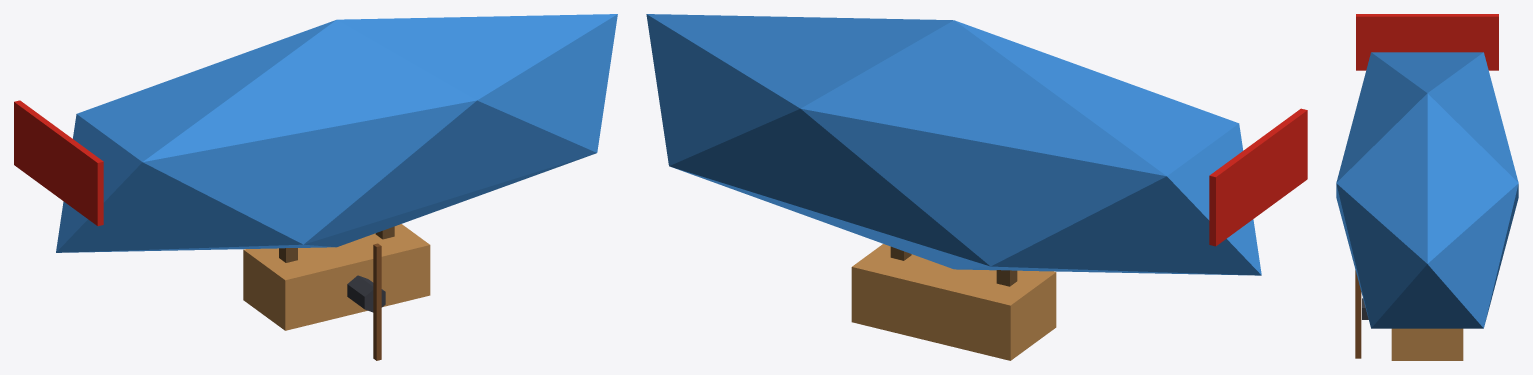
File: sky_propeller_airship_small.glb
3 views of the same model, side by side, from view 1: azimuth 30°, elevation 25°; view 2: azimuth 150°, elevation 25°; view 3: azimuth 270°, elevation 25° (orthographic). The views are drawn at different scales.
Parts seen in each view (by area): view 1: propeller_airship_small; view 2: propeller_airship_small; view 3: propeller_airship_small.
Part boxes in pixels (x1,y1,x2,y2): propeller_airship_small: [14, 14, 617, 360]; propeller_airship_small: [646, 14, 1307, 360]; propeller_airship_small: [1336, 14, 1518, 360].
Bounding box in the file's own units: 4.65 × 2.45 × 1.53.
